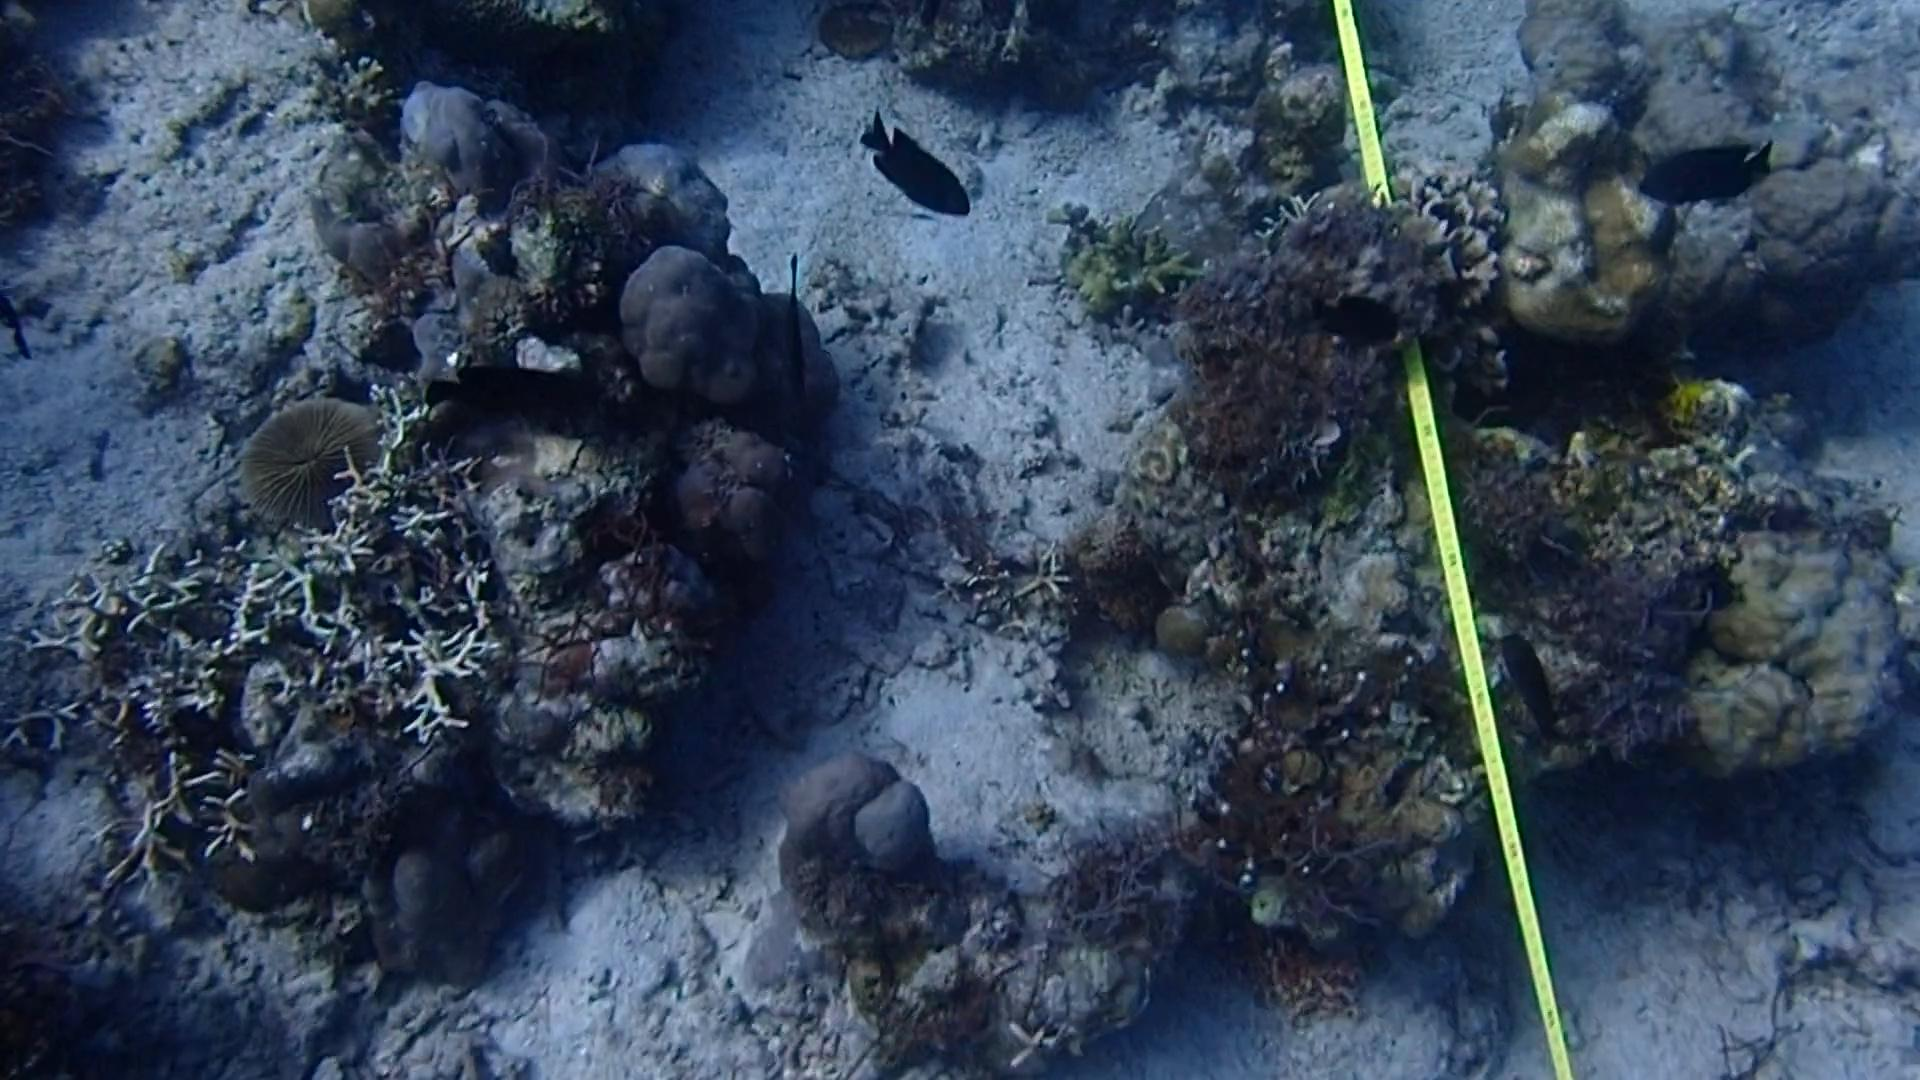Dark Fish: (858, 105, 989, 240), (430, 351, 589, 448), (1630, 131, 1779, 225), (1478, 625, 1582, 742), (1291, 276, 1402, 364), (764, 256, 824, 393)
